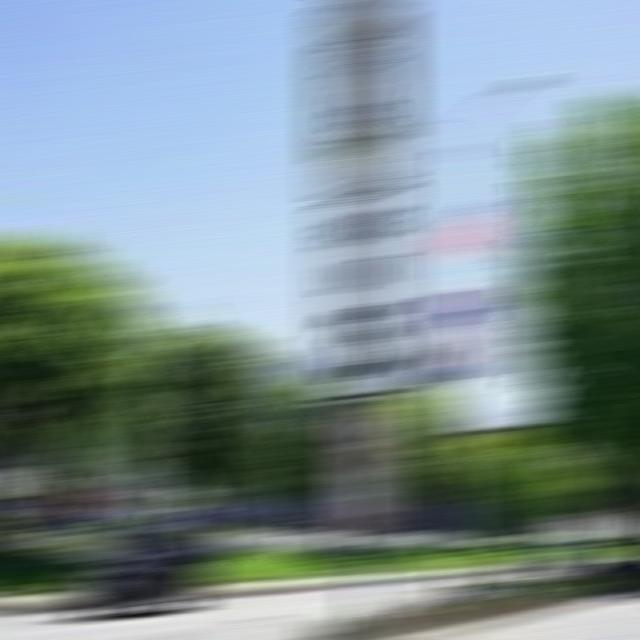speedLimit35: (315, 188, 411, 395)
